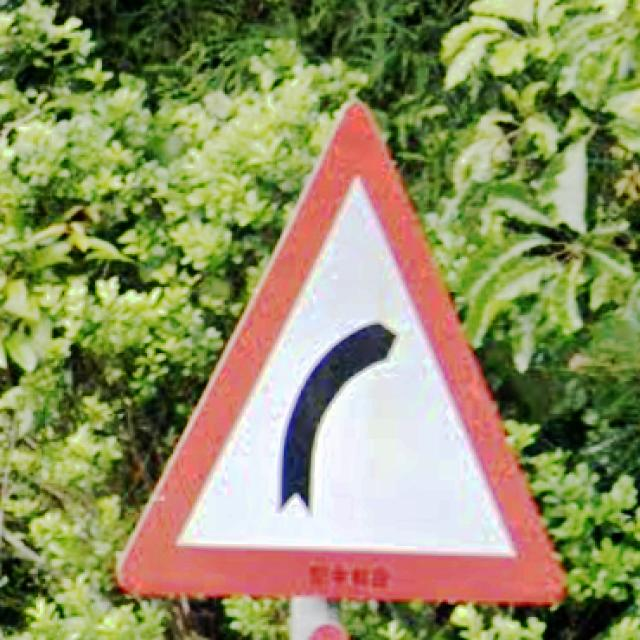rightbend: (119, 102, 566, 605)
